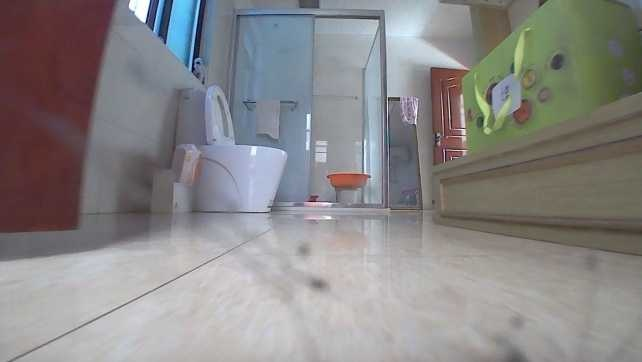door_anno: (427, 64, 477, 174)
toilet: (175, 83, 290, 212)
